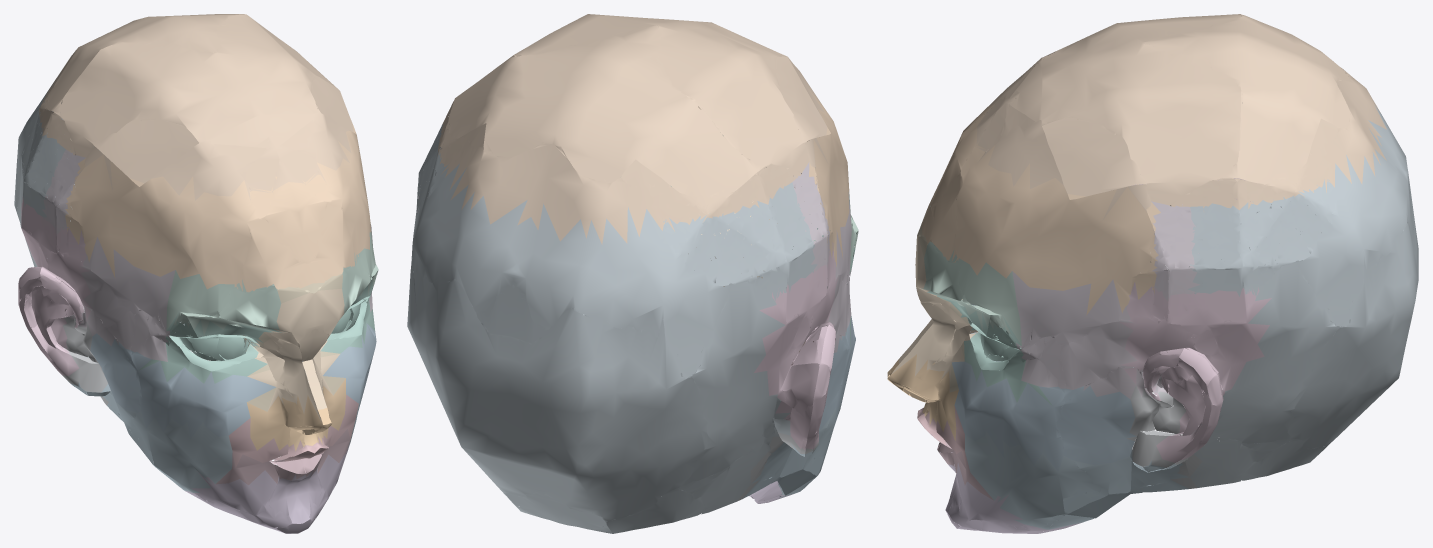
Rendered from grey-head-qem-symmetric.parts.glb.
3 renders of one model, left to right at view 1: azimuth 30°, elevation 25°; view 2: azimuth 150°, elevation 25°; view 3: azimuth 270°, elevation 25°, orthographic. The views are drawn at different scales.
Parts seen in each view (by area): view 1: vault, forehead, temple_L, cheek_L, ear_L, nasalBridge, chin, jaw_L, orbit_L, brow_L, nasalTip, occiput (+7 smaller); view 2: occiput, vault, ear_L, temple_L, forehead, jaw_L, cheek_L, lateral_L; view 3: vault, occiput, forehead, ear_R, temple_R, cheek_R, jaw_R, brow_R, nasalBridge, lateral_R, orbit_R, chin (+3 smaller).
Part boxes in pixels (x1,y1,x2,y2): vault: [39, 14, 353, 200]; forehead: [64, 124, 371, 292]; temple_L: [42, 149, 175, 361]; cheek_L: [90, 333, 275, 438]; ear_L: [18, 196, 91, 376]; nasalBridge: [243, 289, 344, 421]; chin: [185, 442, 350, 533]; jaw_L: [68, 381, 232, 492]; orbit_L: [139, 312, 281, 383]; brow_L: [166, 270, 284, 335]; nasalTip: [246, 378, 345, 451]; occiput: [14, 76, 258, 401]; occiput: [407, 124, 817, 533]; vault: [437, 14, 828, 244]; ear_L: [754, 242, 838, 450]; temple_L: [792, 162, 851, 352]; forehead: [698, 90, 849, 266]; jaw_L: [743, 399, 841, 498]; cheek_L: [819, 316, 855, 430]; lateral_L: [737, 432, 818, 501]; vault: [976, 14, 1386, 220]; occiput: [1188, 106, 1418, 487]; forehead: [921, 104, 1160, 315]; ear_R: [1119, 282, 1271, 462]; temple_R: [1012, 201, 1200, 398]; cheek_R: [951, 361, 1136, 471]; jaw_R: [965, 431, 1189, 529]; brow_R: [921, 241, 1021, 345]; nasalBridge: [892, 236, 977, 392]; lateral_R: [1127, 385, 1202, 488]; orbit_R: [927, 291, 1052, 405]; chin: [940, 452, 1081, 533].
Bounding box in the file's own units: 1.86 × 2.25 × 2.22.
